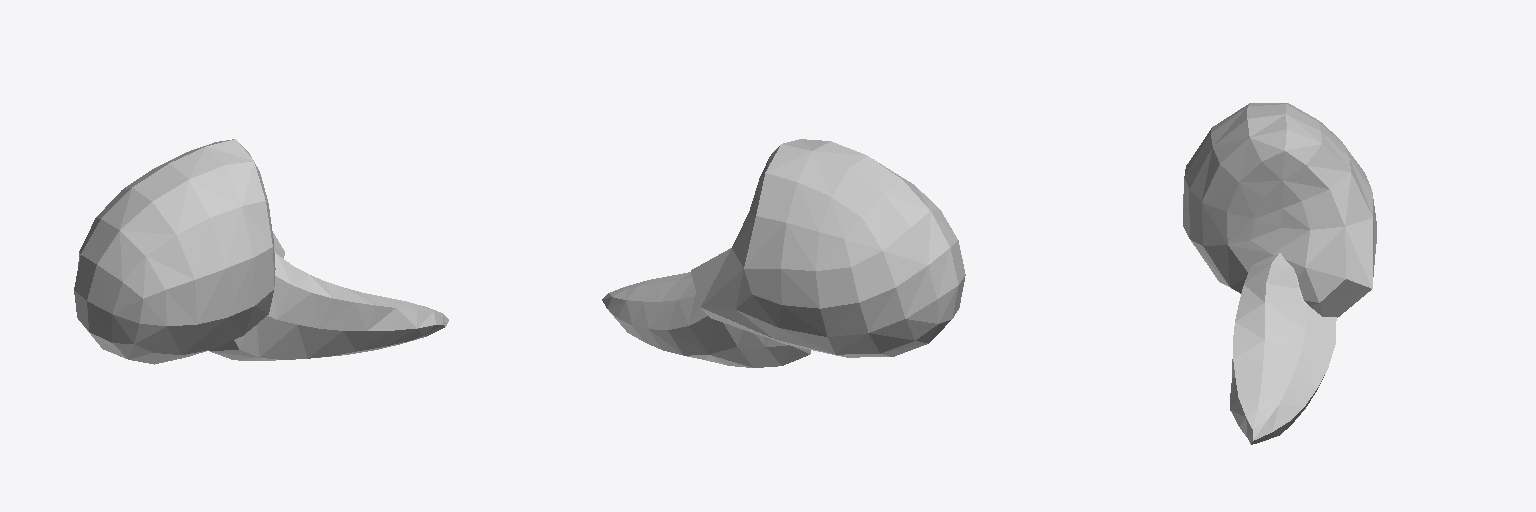
File: Whiskers-1.obj
3 views of the same model, side by side, from view 1: azimuth 30°, elevation 25°; view 2: azimuth 150°, elevation 25°; view 3: azimuth 270°, elevation 25° (orthographic).
Visible parts, largest first — view 1: Group35181; view 2: Group35181; view 3: Group35181.
Boxes of the visible parts, x1=… form: Group35181: x1=74, y1=139, x2=448, y2=364; Group35181: x1=602, y1=139, x2=965, y2=367; Group35181: x1=1183, y1=103, x2=1376, y2=444.
Size of the model in its own units: 41.76 by 26.33 by 19.57.